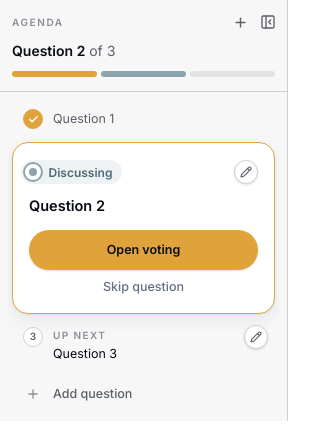
Scenario: AgendaPanel (F24) › collapses to a rail that still says where the session is up to
Click the button named "Collapse agenda": click(268, 22) [254,8,282,36]
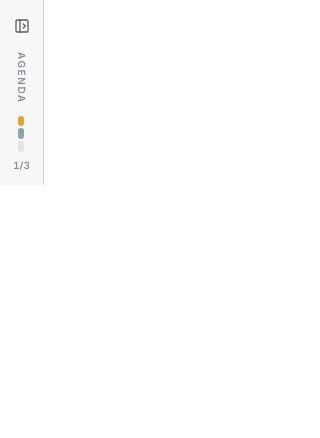
Expected: the button "Question 1" is gone
Expected: the text "1/3" is shown, [13,158,30,173]
Expected: the button named "Expand agenda" is shown, [8,12,36,40]
